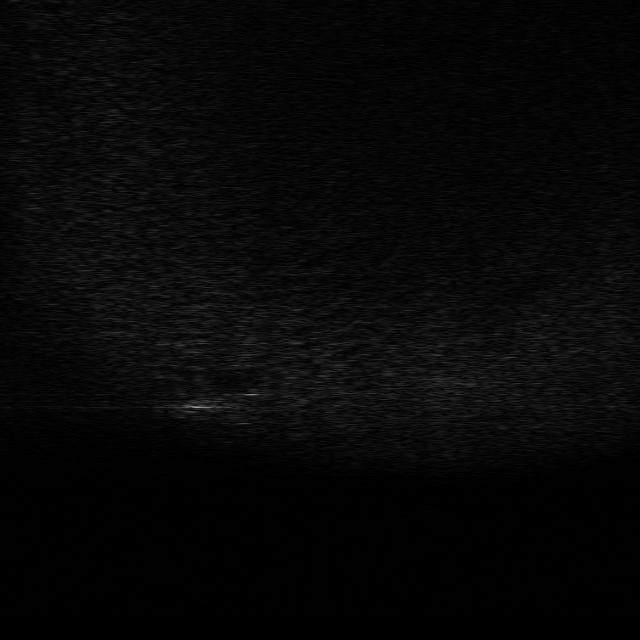plane: (172, 373, 266, 428)
